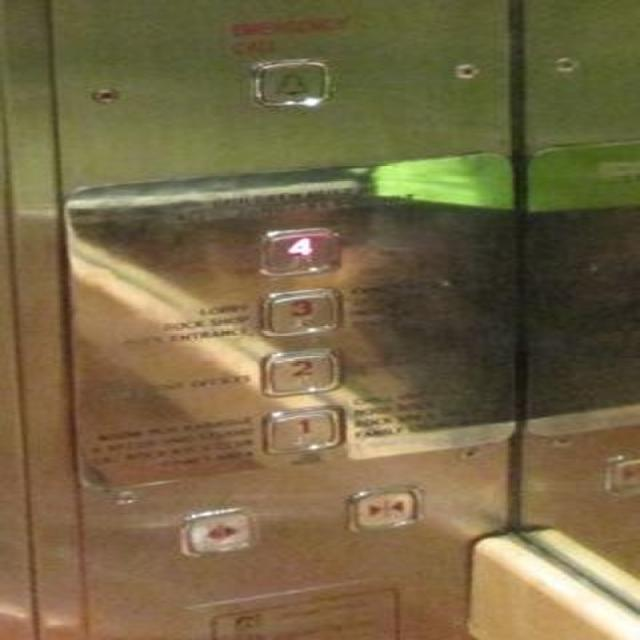1: (260, 405, 345, 453)
2: (259, 348, 341, 396)
3: (258, 287, 342, 335)
4: (257, 226, 343, 275)
alarm: (250, 59, 330, 107)
close: (344, 486, 423, 532)
open: (176, 506, 260, 556)
